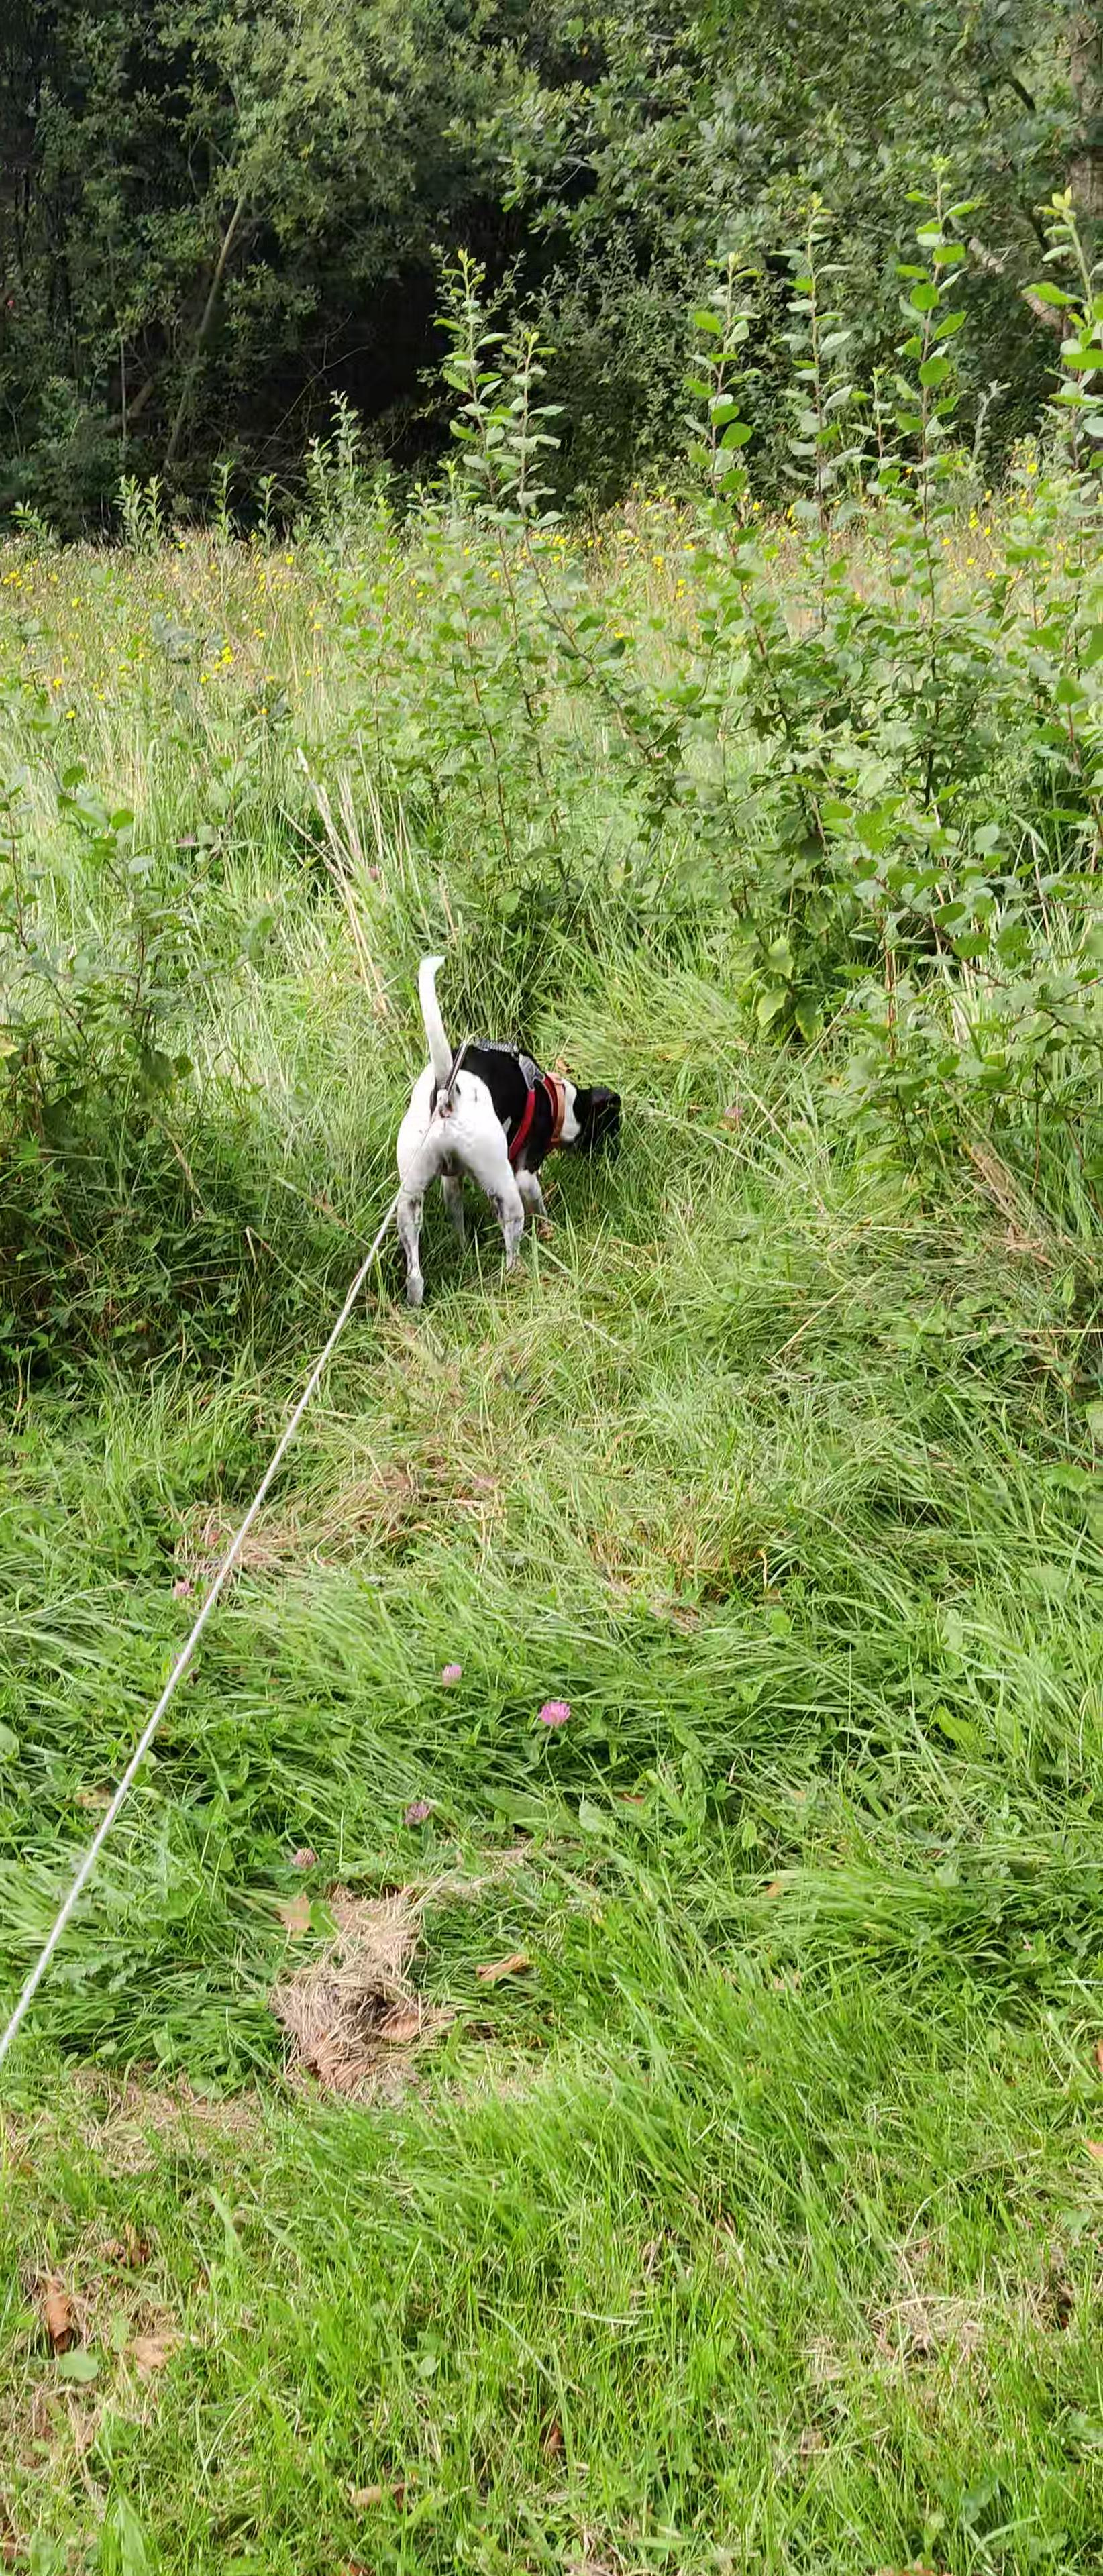Dog: (376, 948, 633, 1314)
